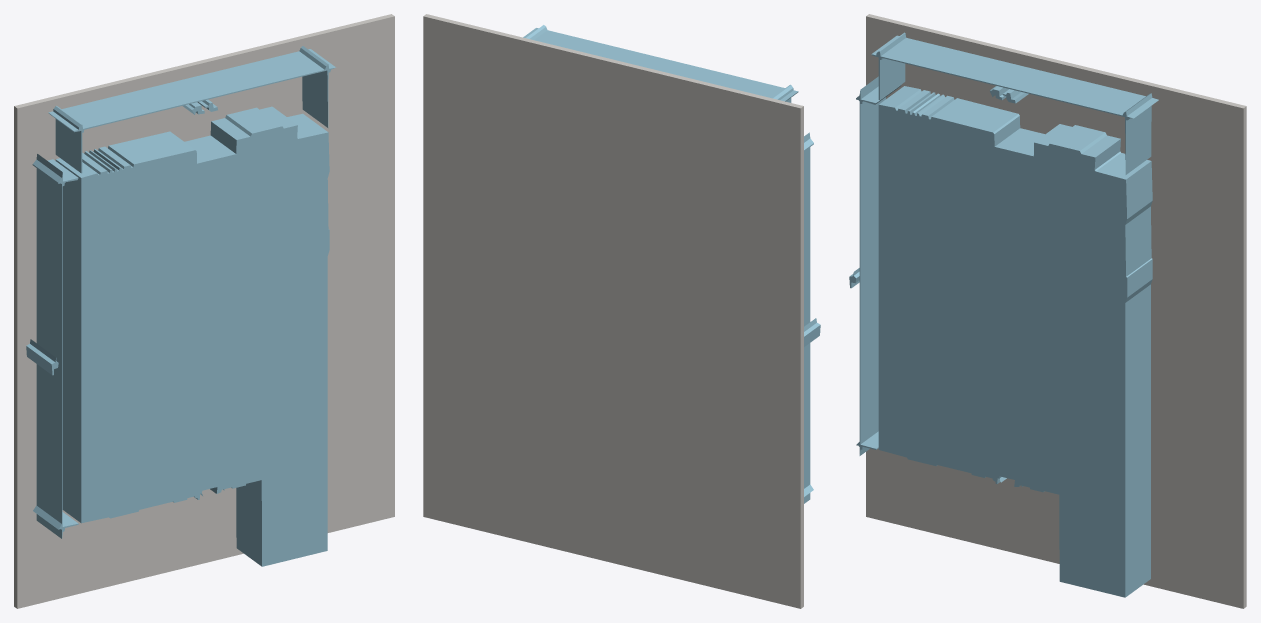
The picture shows the model from 3 angles, left to right: view 1: azimuth 30°, elevation 25°; view 2: azimuth 150°, elevation 25°; view 3: azimuth 330°, elevation 25°; orthographic projection.
Visible parts, largest first — view 1: world; view 2: world; view 3: world.
Part boxes in pixels (x1=…): world: x1=14, y1=14, x2=394, y2=608; world: x1=423, y1=14, x2=820, y2=608; world: x1=849, y1=14, x2=1246, y2=608.
Size of the model in its own units: 10.23 by 12.96 by 1.35.
